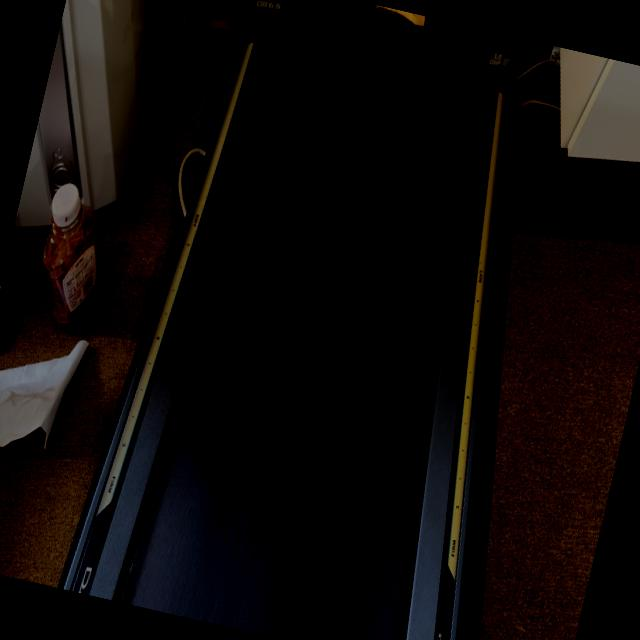Trash: (366, 3, 438, 38)
